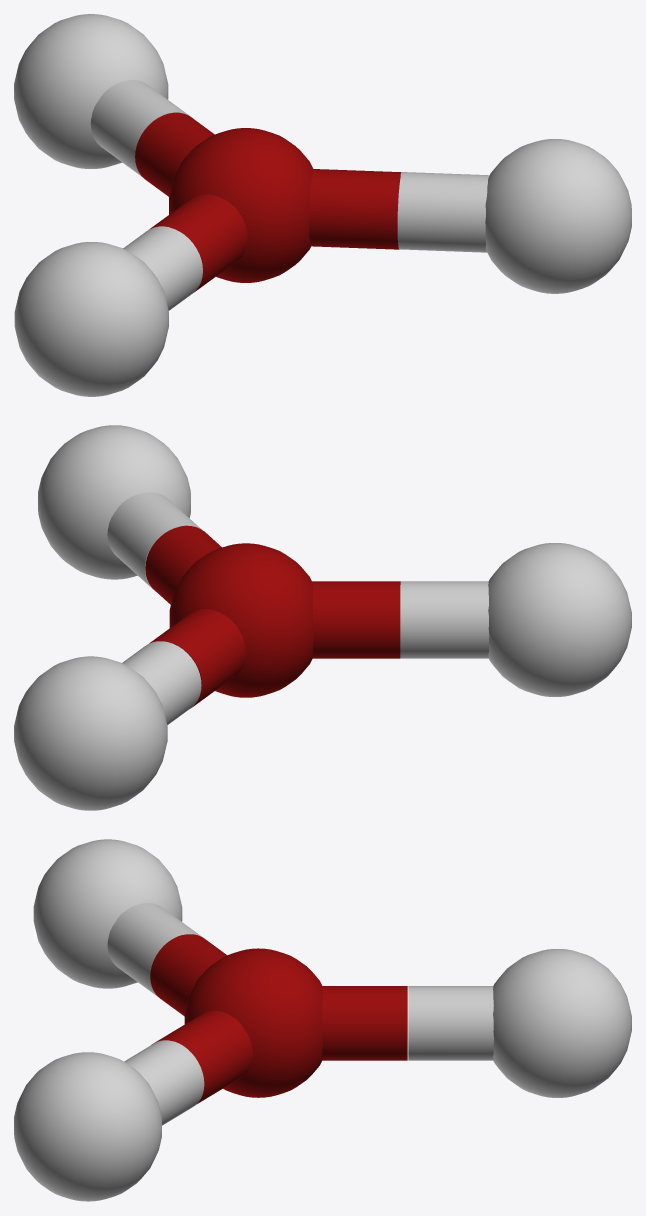
Rendered from Atom Shape 3 - Trigonal Planar.fbx.
3 renders of one model, top to bottom at view 1: azimuth 30°, elevation 25°; view 2: azimuth 150°, elevation 25°; view 3: azimuth 270°, elevation 25°, orthographic. The views are drawn at different scales.
Parts seen in each view (by area): view 1: Sphere_1_2, Sphere_1_3, Sphere_1, Sphere, Cylinder, Cylinder_2_4, Cylinder_1, Cylinder_2, Cylinder_2_2, Cylinder_2_3; view 2: Sphere_1, Sphere_1_2, Sphere_1_3, Sphere, Cylinder_2_2, Cylinder_1, Cylinder_2_3, Cylinder_2_4, Cylinder_2, Cylinder; view 3: Sphere_1_3, Sphere_1, Sphere_1_2, Sphere, Cylinder_2, Cylinder_2_3, Cylinder, Cylinder_2_2, Cylinder_2_4, Cylinder_1.
Boxes of the visible parts, bbox=[...] form: Sphere_1_2: bbox=[14, 242, 168, 396]; Sphere_1_3: bbox=[485, 139, 631, 293]; Sphere_1: bbox=[14, 14, 168, 168]; Sphere: bbox=[169, 128, 313, 282]; Cylinder: bbox=[309, 169, 401, 249]; Cylinder_2_4: bbox=[397, 172, 489, 252]; Cylinder_1: bbox=[149, 194, 247, 292]; Cylinder_2: bbox=[90, 80, 192, 176]; Cylinder_2_2: bbox=[123, 226, 202, 310]; Cylinder_2_3: bbox=[135, 112, 214, 196]; Sphere_1: bbox=[14, 656, 167, 810]; Sphere_1_2: bbox=[488, 543, 631, 696]; Sphere_1_3: bbox=[38, 425, 190, 579]; Sphere: bbox=[169, 543, 313, 697]; Cylinder_2_2: bbox=[400, 581, 489, 658]; Cylinder_1: bbox=[312, 581, 400, 658]; Cylinder_2_3: bbox=[149, 609, 245, 707]; Cylinder_2_4: bbox=[107, 492, 201, 591]; Cylinder_2: bbox=[122, 641, 201, 724]; Cylinder: bbox=[145, 525, 221, 604]; Sphere_1_3: bbox=[14, 1052, 161, 1201]; Sphere_1: bbox=[493, 949, 631, 1097]; Sphere_1_2: bbox=[33, 839, 182, 988]; Sphere: bbox=[184, 948, 322, 1097]; Cylinder_2: bbox=[408, 986, 493, 1060]; Cylinder_2_3: bbox=[322, 986, 407, 1060]; Cylinder: bbox=[152, 1010, 253, 1104]; Cylinder_2_2: bbox=[107, 903, 204, 997]; Cylinder_2_4: bbox=[124, 1040, 204, 1125]; Cylinder_1: bbox=[150, 934, 226, 1016].
Size of the model in its own units: 872 by 200 by 827.
